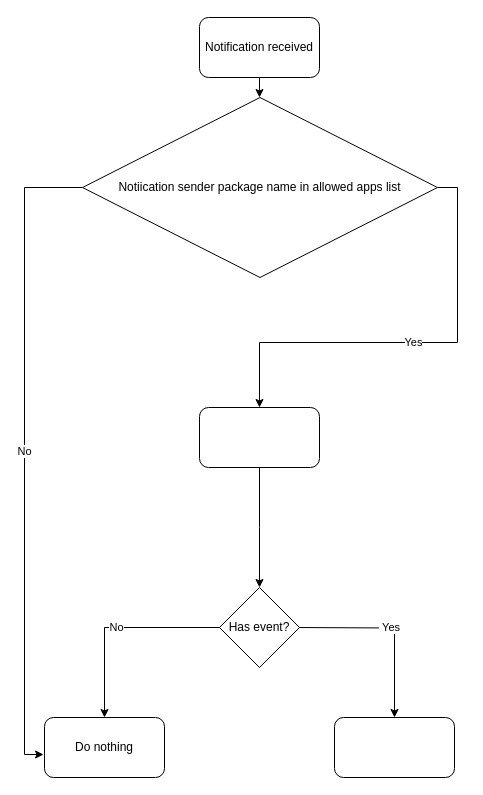
Some shapes in this 483 by 795 pixel diagram are drawn without their labels. The box of each missing label's shape, as (x1, y1, x2, y2) in pixels:
Add to DB: (334, 716, 454, 778)
gpt data processor: (198, 406, 320, 468)
